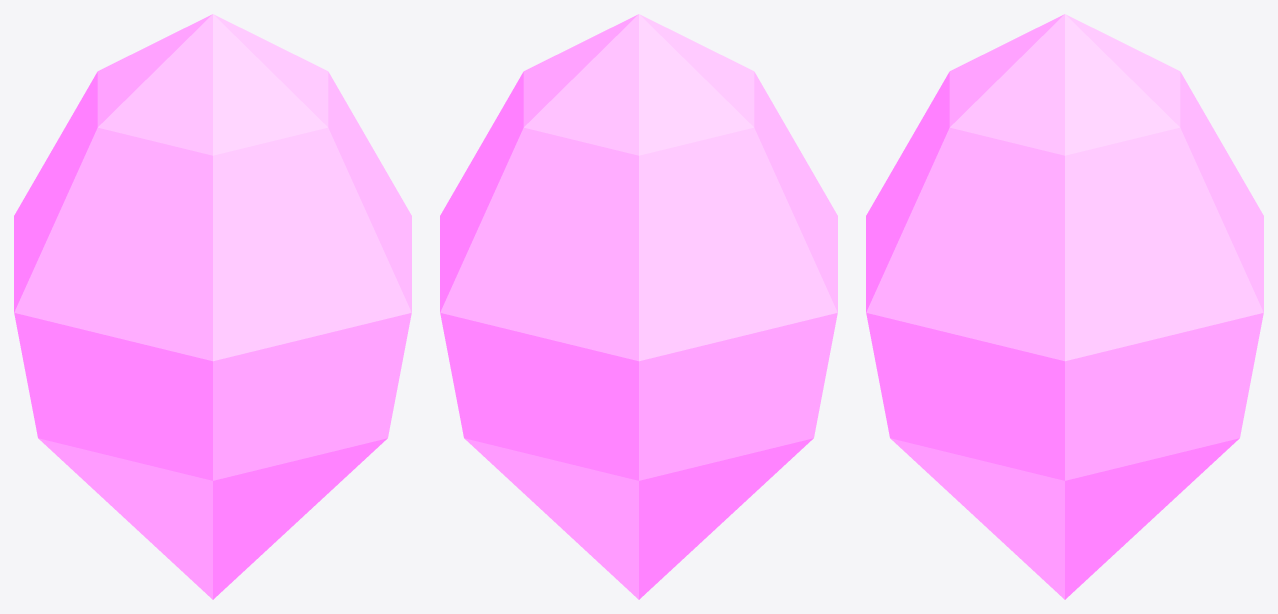
File: gem.glb
3 renders of one model, left to right at view 1: azimuth 30°, elevation 25°; view 2: azimuth 150°, elevation 25°; view 3: azimuth 270°, elevation 25°, orthographic.
Parts seen in each view (by area): view 1: GemCrystal; view 2: GemCrystal; view 3: GemCrystal.
Boxes of the visible parts, x1=… form: GemCrystal: x1=14, y1=14, x2=411, y2=599; GemCrystal: x1=440, y1=14, x2=837, y2=599; GemCrystal: x1=866, y1=14, x2=1263, y2=599.
Bounding box in the file's own units: 0.6 × 0.8448 × 0.5196.
